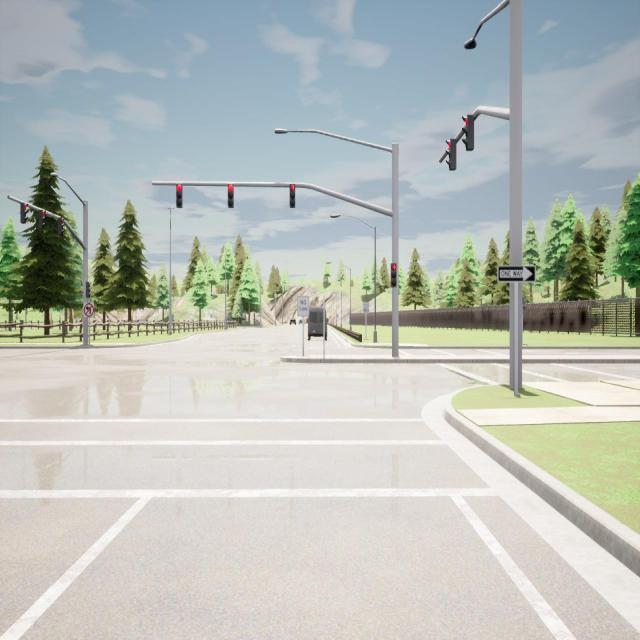Traffic_Signs: (498, 265, 536, 283), (297, 296, 309, 316), (83, 303, 94, 317), (363, 303, 370, 312)
Vehicle: (308, 305, 328, 341), (289, 317, 297, 325)
traffic_light: (462, 115, 474, 151), (445, 138, 456, 170), (175, 184, 182, 208), (227, 184, 234, 208), (21, 202, 28, 224), (38, 210, 46, 229), (290, 184, 296, 208), (391, 263, 396, 288), (59, 217, 64, 236), (86, 281, 91, 298)
